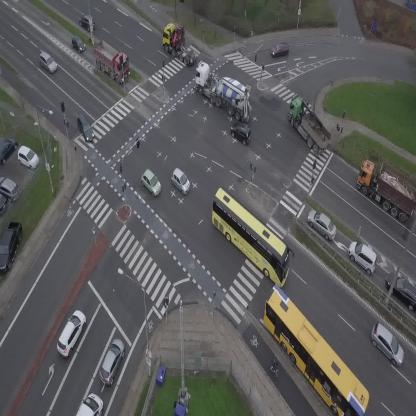bicycle: (271, 359, 279, 377)
bus: (245, 283, 379, 416), (196, 186, 305, 289)
car: (364, 321, 412, 368), (52, 308, 91, 358), (95, 336, 129, 387), (342, 237, 385, 277), (302, 205, 343, 244), (166, 166, 196, 196), (136, 168, 166, 198), (226, 118, 256, 147), (73, 113, 97, 143), (35, 49, 60, 76), (76, 11, 99, 33), (67, 33, 88, 55), (270, 41, 290, 56)
lorry: (184, 58, 264, 126), (278, 93, 337, 156), (84, 36, 138, 87), (155, 18, 199, 72), (76, 393, 103, 416)
